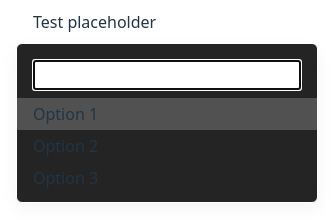
Test: Select › With expanded dropdown › selecting an option collapses the dropdown
This screenshot has width=335, height=220.
Click the option "Option 1": point(66, 114) [17, 98, 317, 130]
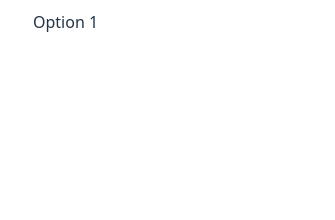
Result: the list is gone
